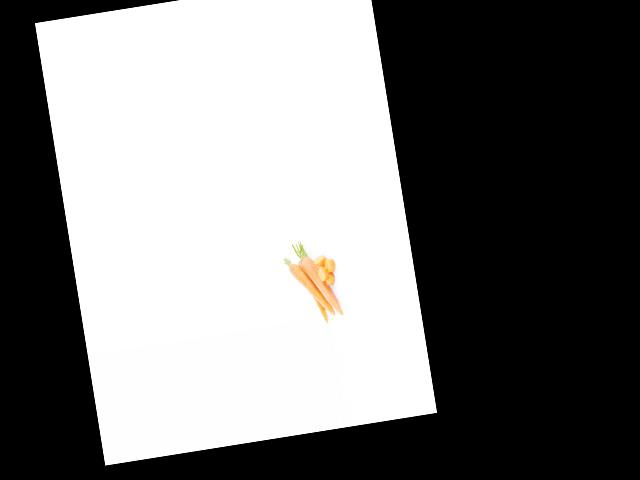carrot: (298, 247, 344, 321)
